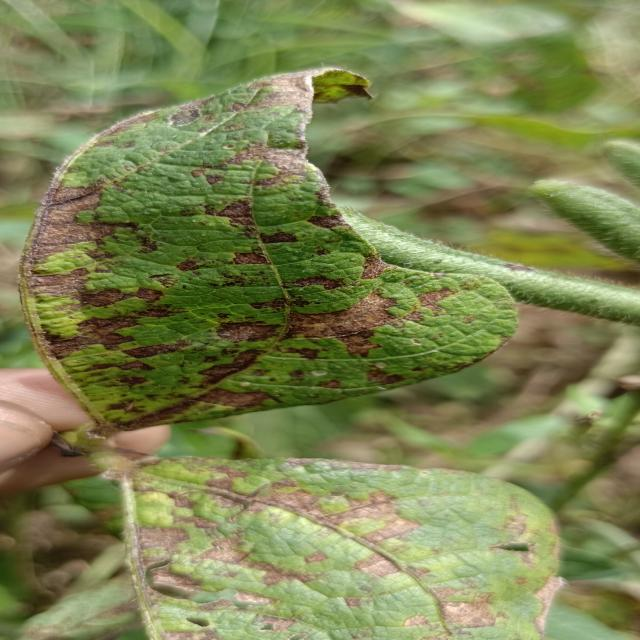Black gram_leaf spot: (7, 58, 551, 443), (116, 447, 562, 640)
